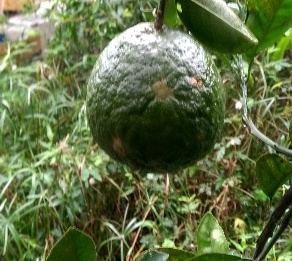Cam: (83, 20, 229, 175)
